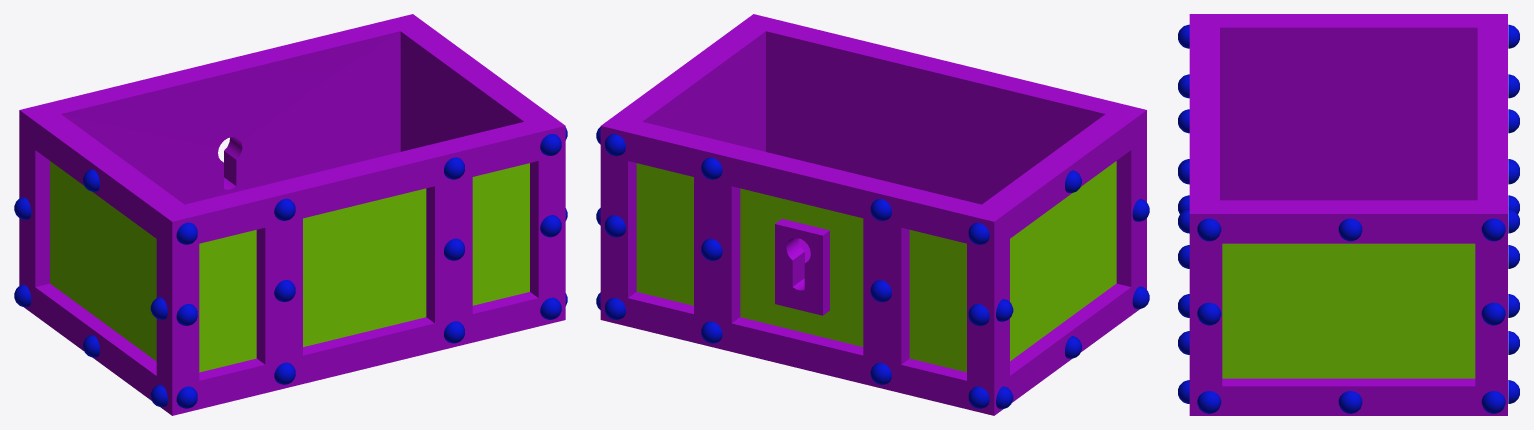
3 renders of one model, left to right at view 1: azimuth 30°, elevation 25°; view 2: azimuth 150°, elevation 25°; view 3: azimuth 270°, elevation 25°, orthographic. The views are drawn at different scales.
Visible parts, largest first — view 1: Box004; view 2: Box004; view 3: Box004.
Part boxes in pixels (x1=…): Box004: x1=14, y1=14, x2=567, y2=415; Box004: x1=596, y1=14, x2=1149, y2=415; Box004: x1=1178, y1=14, x2=1519, y2=415.
Size of the model in its own units: 108 by 48.37 by 74.19.
